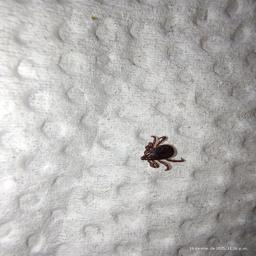Rhipicephalus sanguineus: (140, 135, 186, 171)
